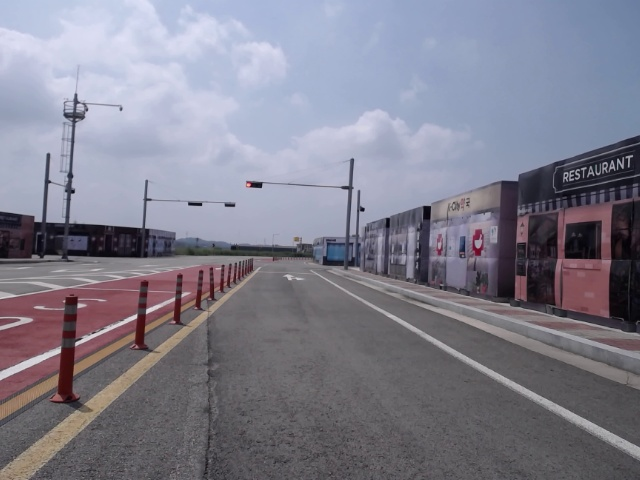red_3: (246, 181, 263, 189)
